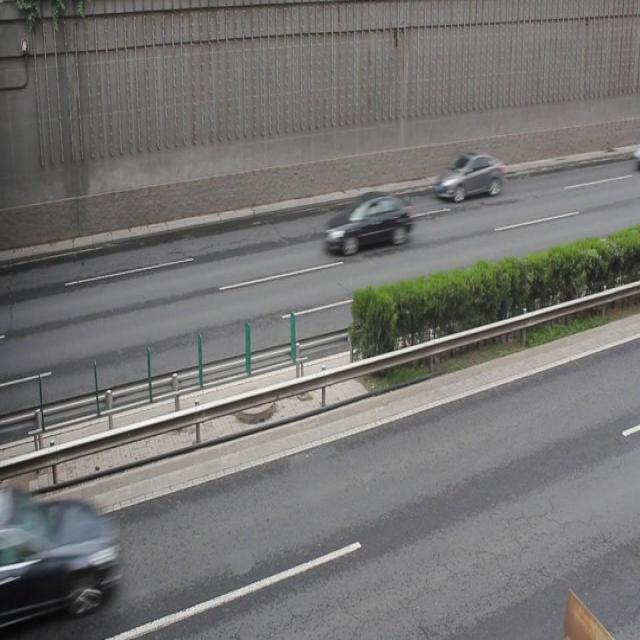car: (1, 493, 116, 620), (323, 190, 414, 253), (434, 148, 502, 203)
